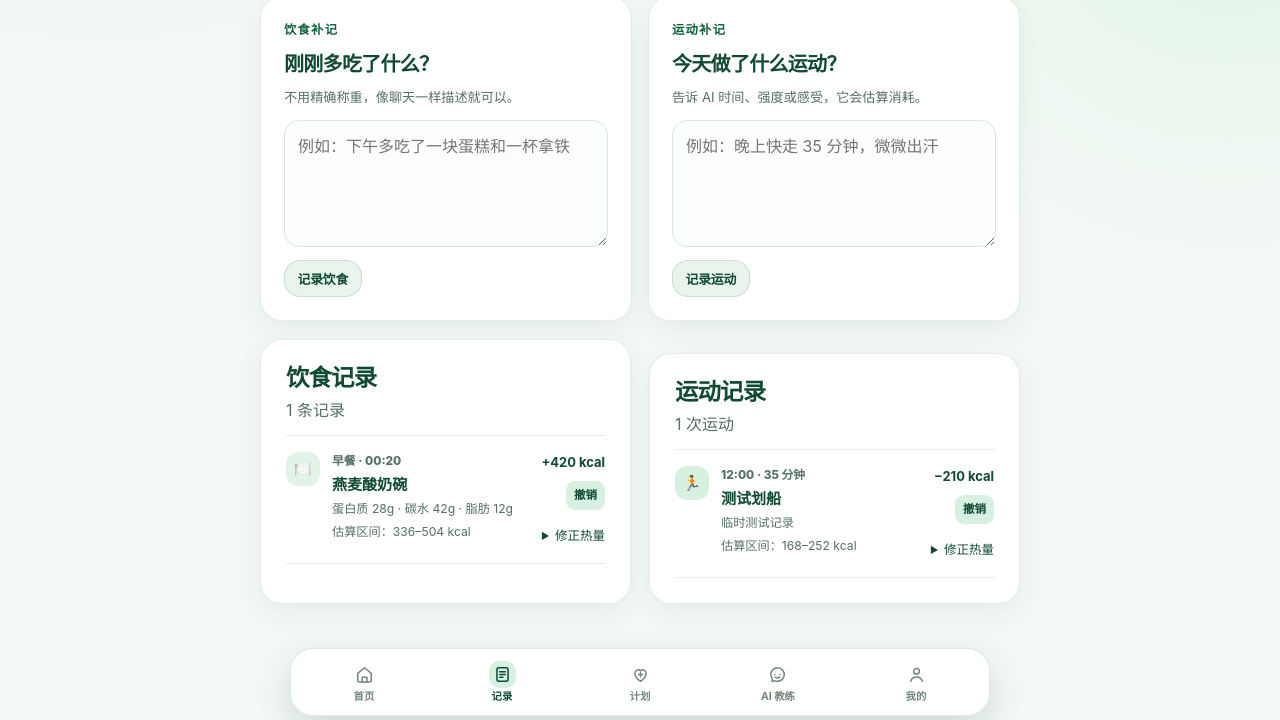
Test: RecordsPage › 撤销运动记录后会刷新当日汇总
The image size is (1280, 720).
(page scrolled)
Expected: the text "测试划船" is shown, [721,489,781,508]
Click the button "撤销" in the row of "临时测试记录" at (974, 510), box [955,495,994,524]
(page scrolled)
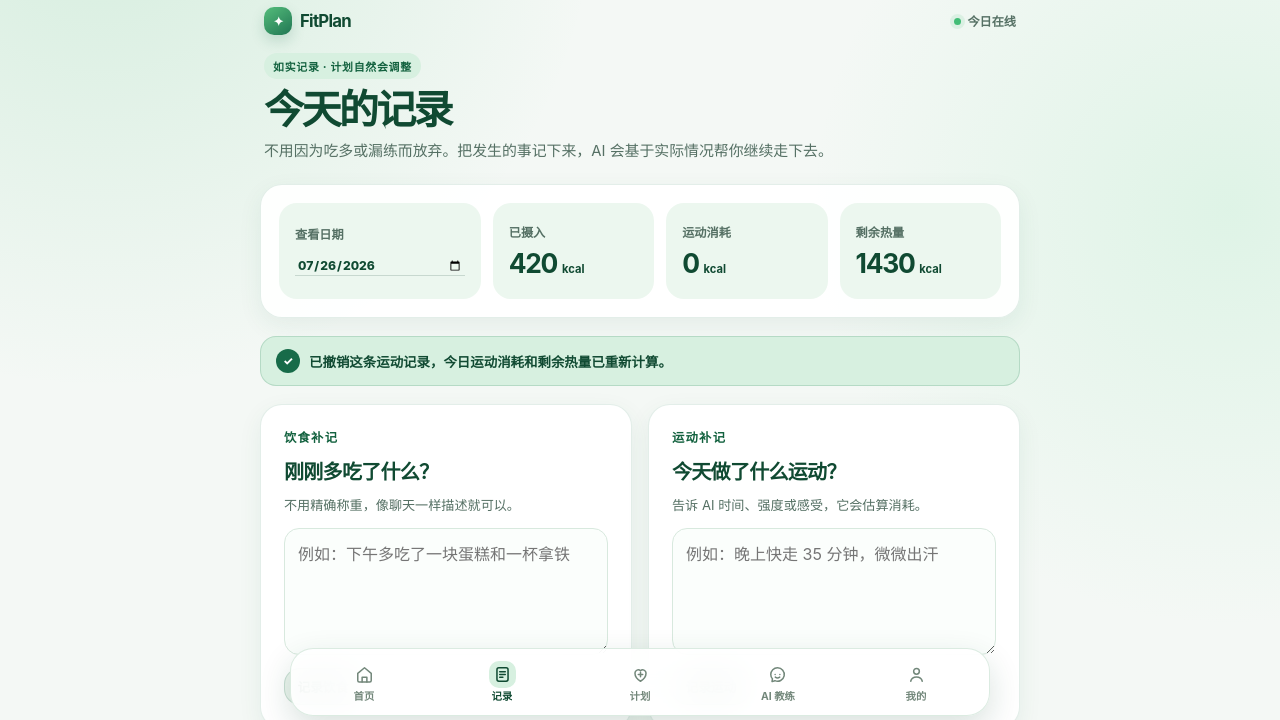
Now the text "已撤销这条运动记录，今日运动消耗和剩余热量已重新计算。" is shown, box [309,354,672,370]
Now the heading "测试划船" is gone
